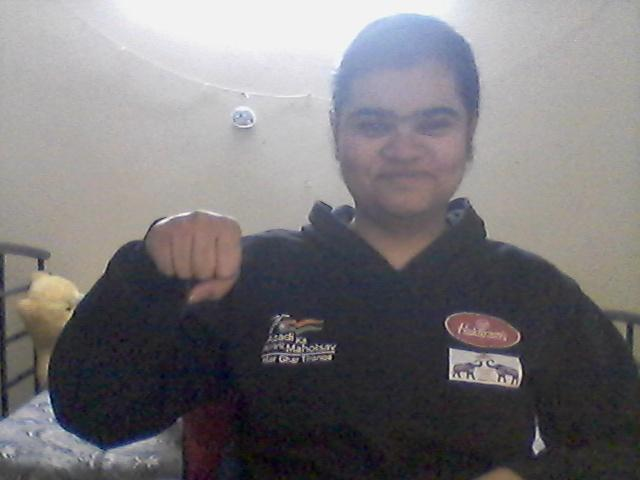yes: (141, 201, 259, 295)
